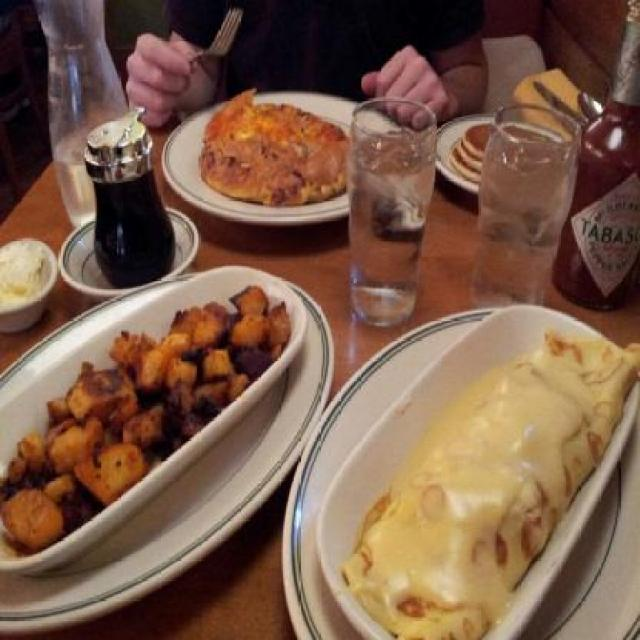omelette: (346, 306, 640, 640), (195, 82, 370, 198)
pancakes: (450, 115, 556, 179)
